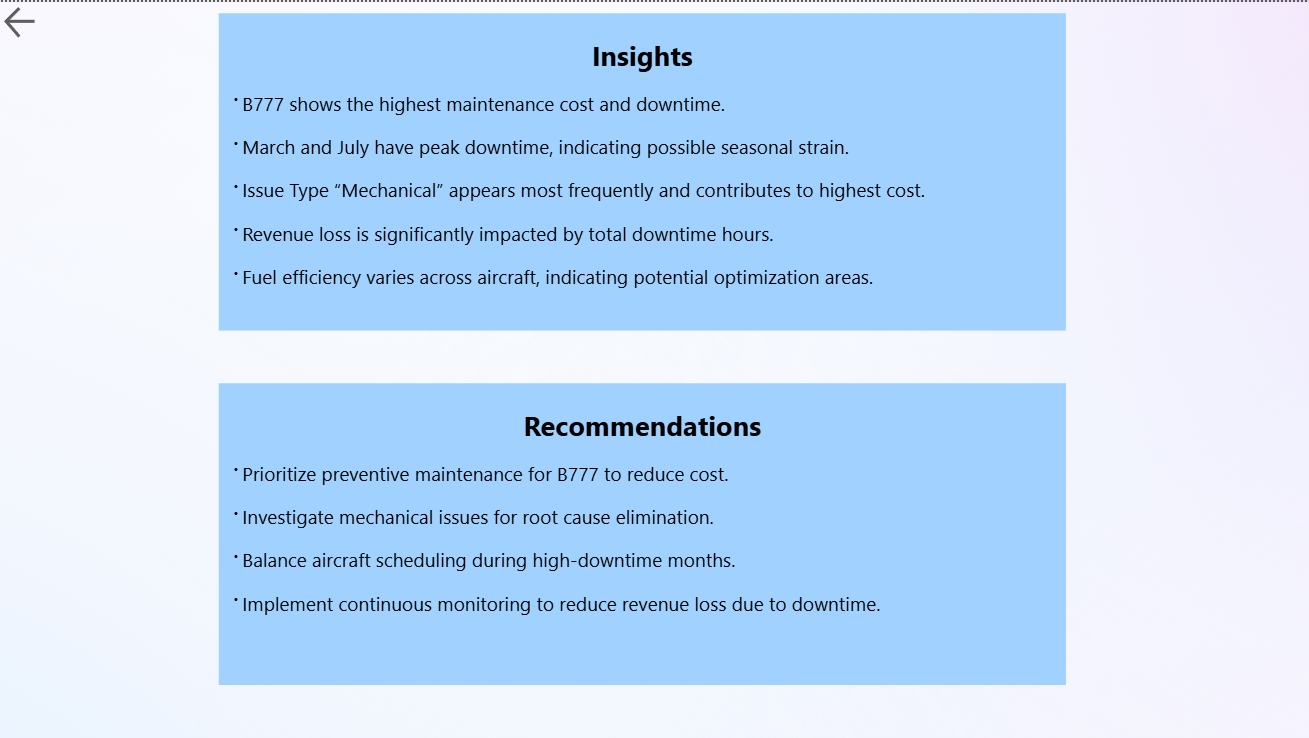

This screenshot's page, from the dashboard's own definition file:
{"tool":"powerbi","page":{"name":"Insights & Recommendations","canvas":[1280,720],"ordinal":1},"visuals":[{"type":"textbox","box":[214.1,11,828.8,310.1],"z":0},{"type":"textbox","box":[214.1,373.2,828.8,295],"z":1},{"type":"actionButton","box":[0,0,39.8,39.8],"z":2}]}

Visuals, with their boxes in screenshot pixels (x1, y1, x2, y2), scaled from the page's 1280x720 canvas onto the 1309x738 screenshot:
textbox: <box>219,11,1067,329</box>
textbox: <box>219,383,1067,685</box>
actionButton: <box>0,0,41,41</box>
